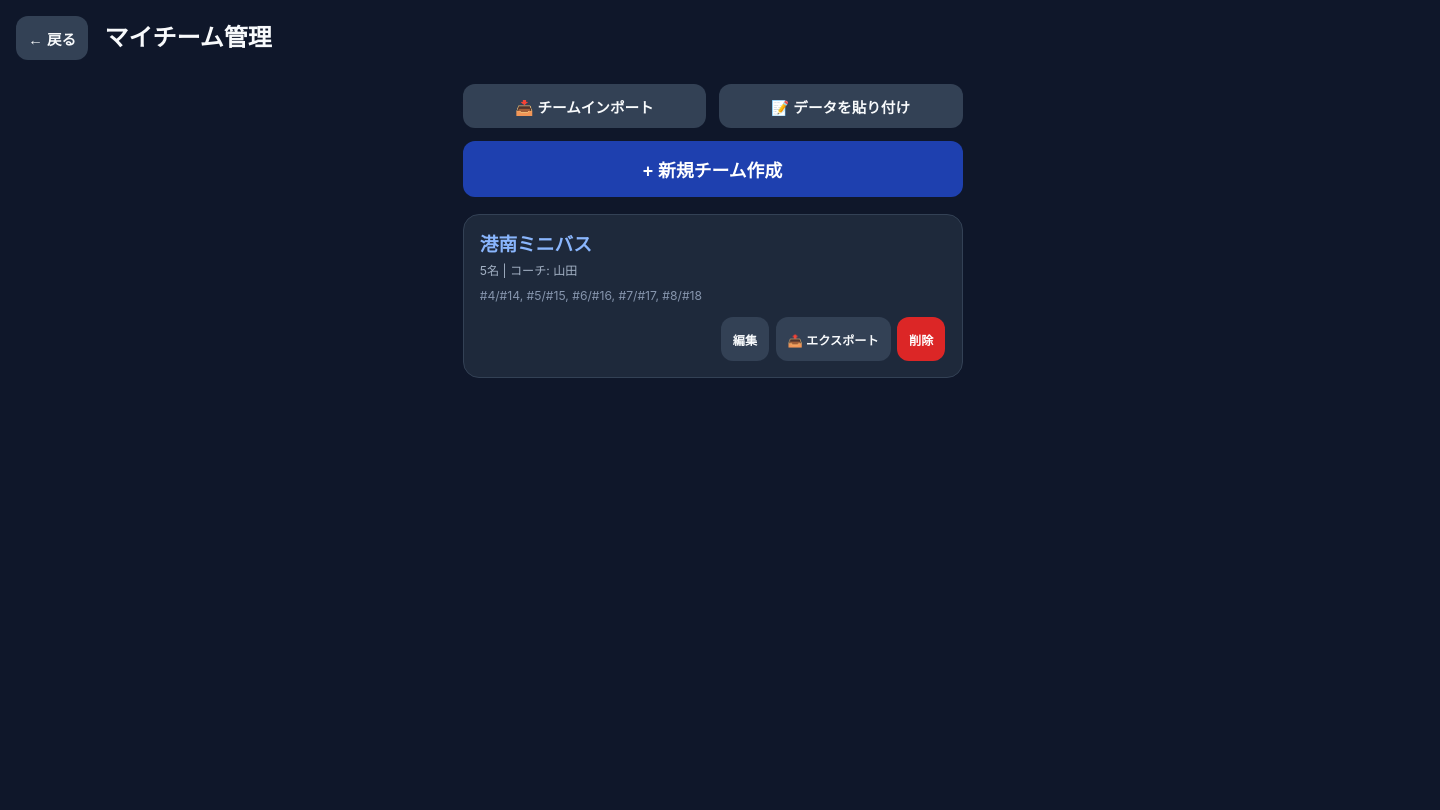
MyTeamManager: 選手の追加 › 空いている番号なら追加できる
Click the button "編集".
click(745, 339)  # box x1=721 y1=317 x2=769 y2=361
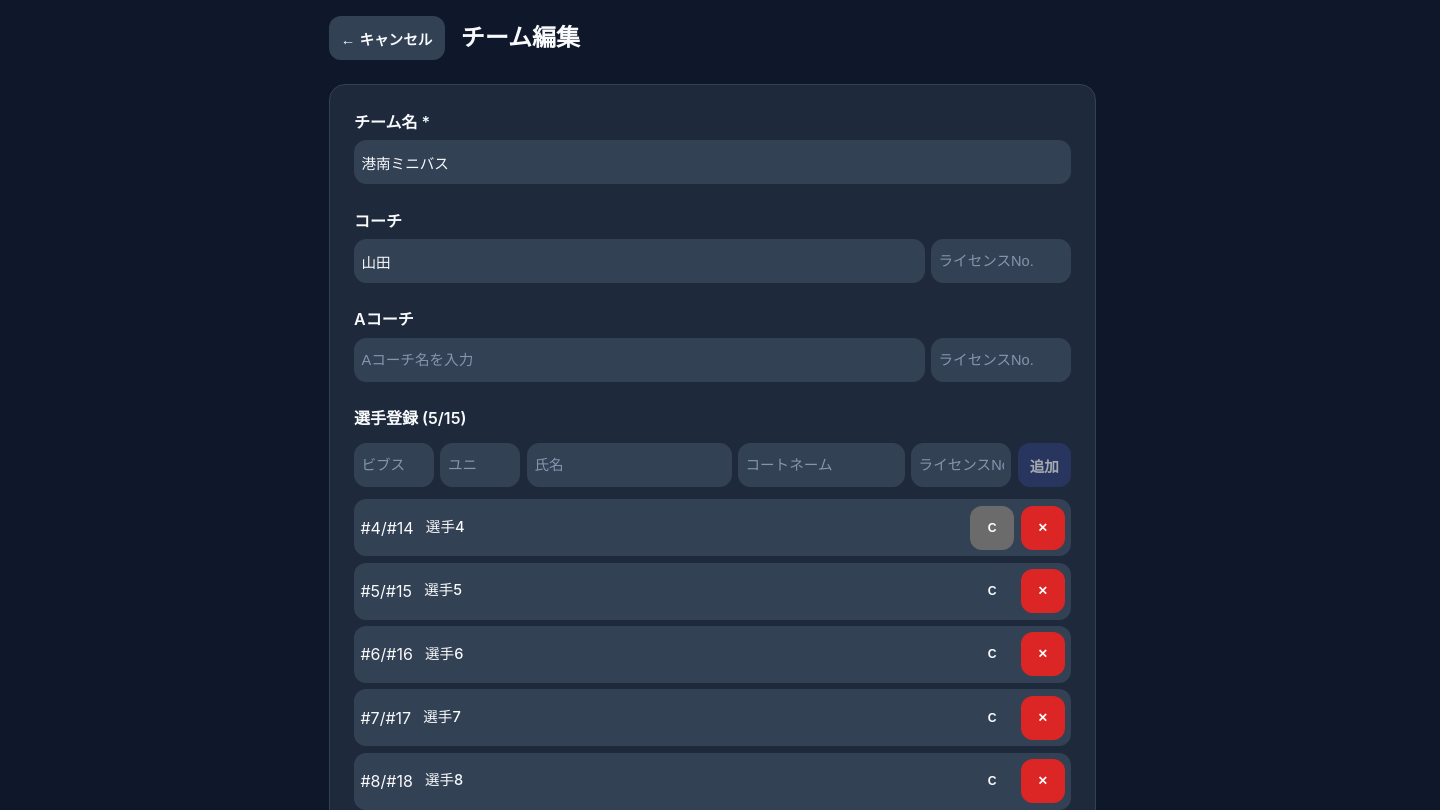
Type "9" into the field named "ビブス番号".
click(394, 465); type("9")  # box x1=354 y1=443 x2=434 y2=487
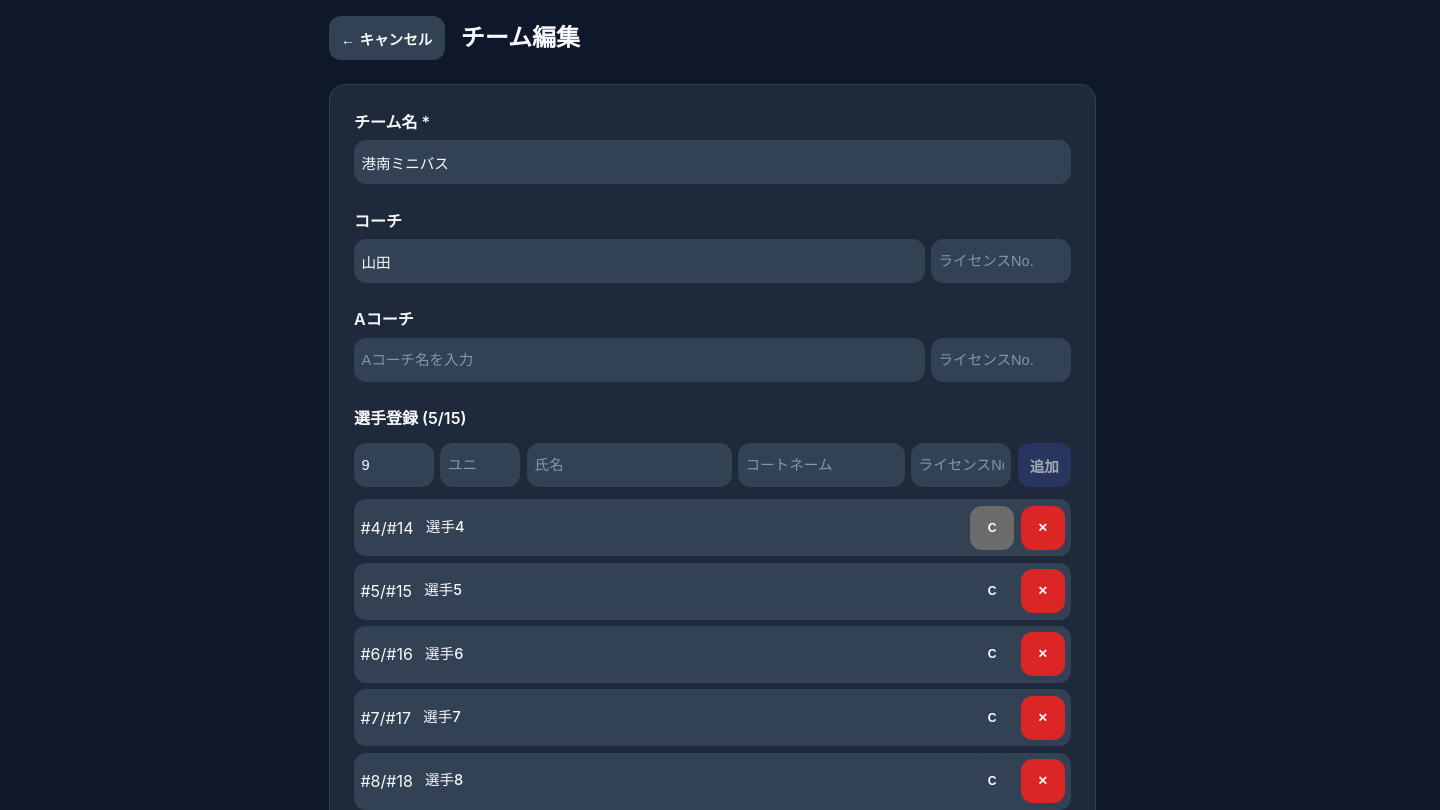
Type "新入り" into the field named "選手名".
click(629, 465); type("新入り")  # box x1=527 y1=443 x2=732 y2=487
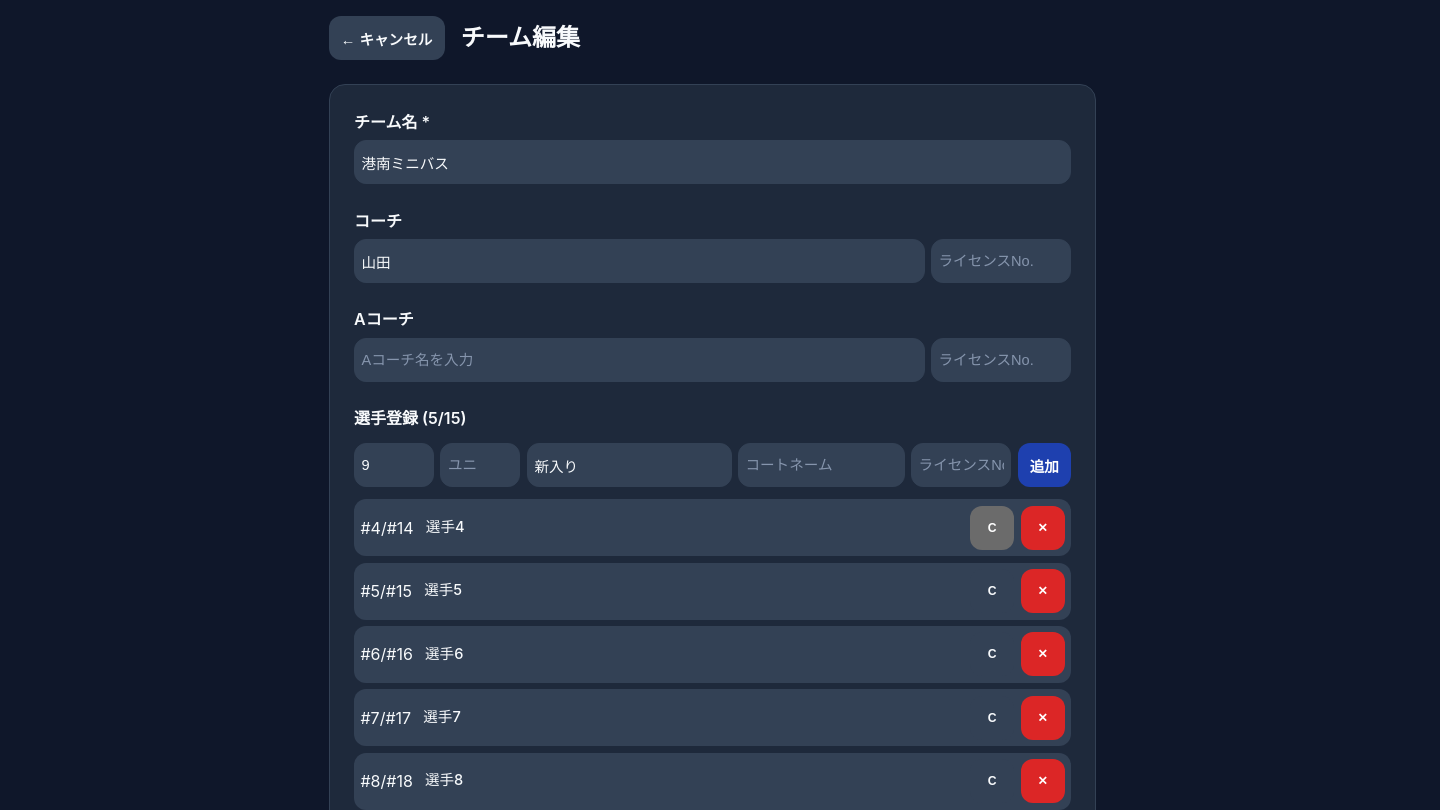
Click the button "追加".
click(1044, 465)  # box x1=1018 y1=443 x2=1071 y2=487
(page scrolled)
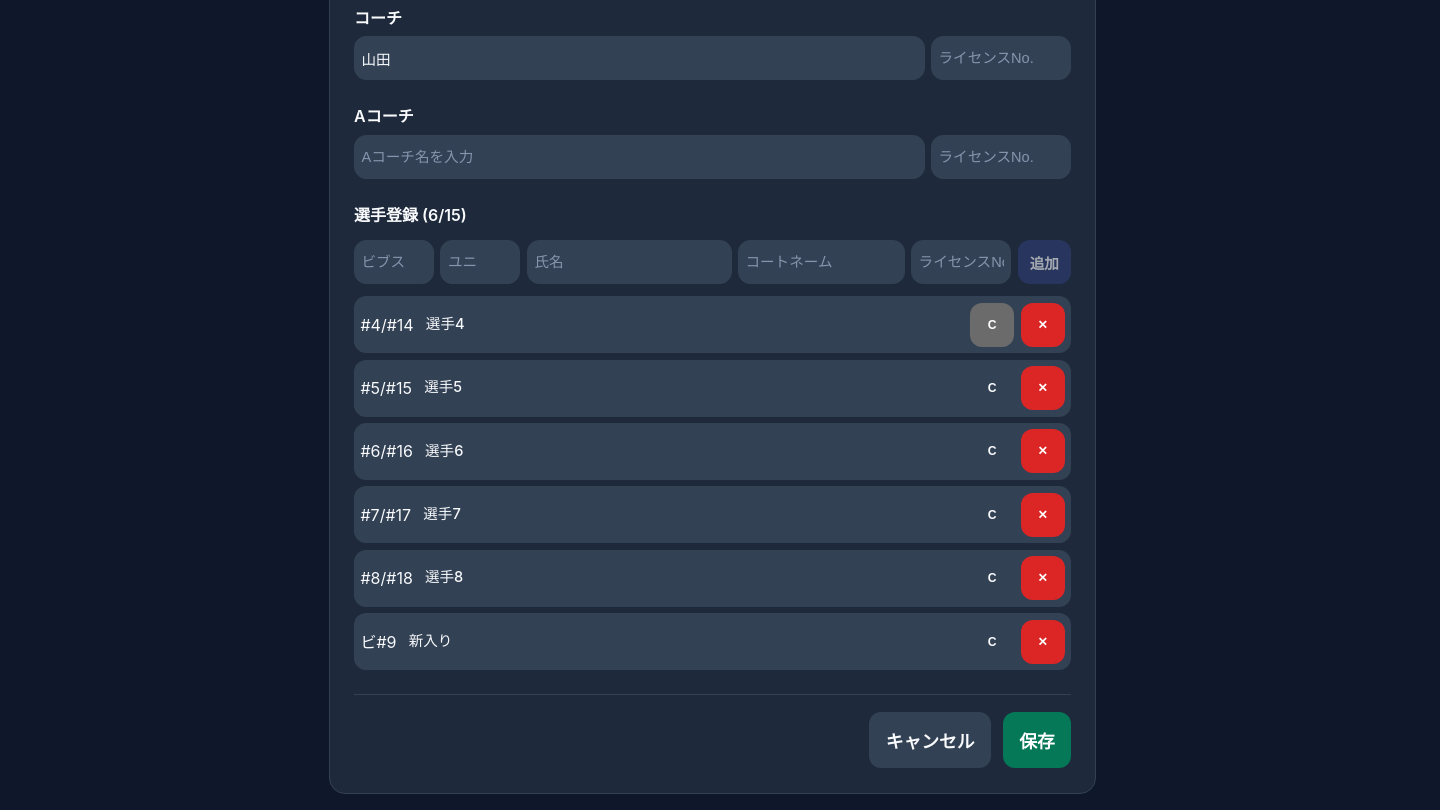
Check: the text "新入り" is shown, box x1=409 y1=632 x2=452 y2=650
